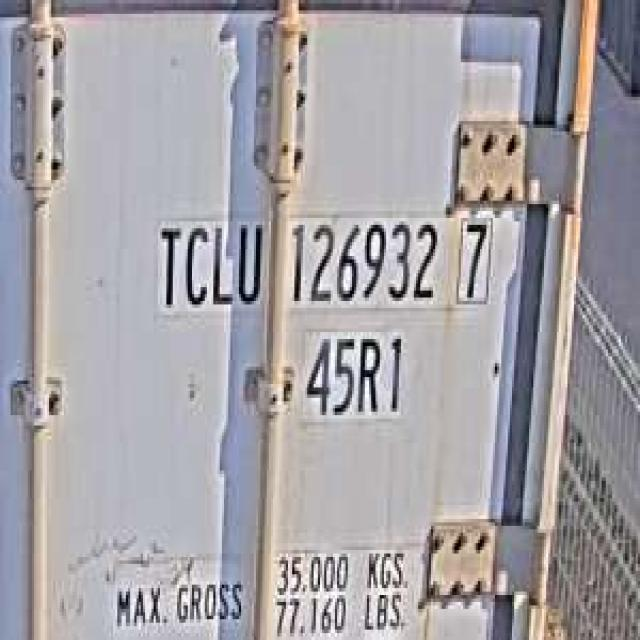dv: (452, 201, 497, 308)
owner: (152, 208, 264, 318)
serial: (284, 207, 442, 308)
size: (303, 322, 407, 426)
